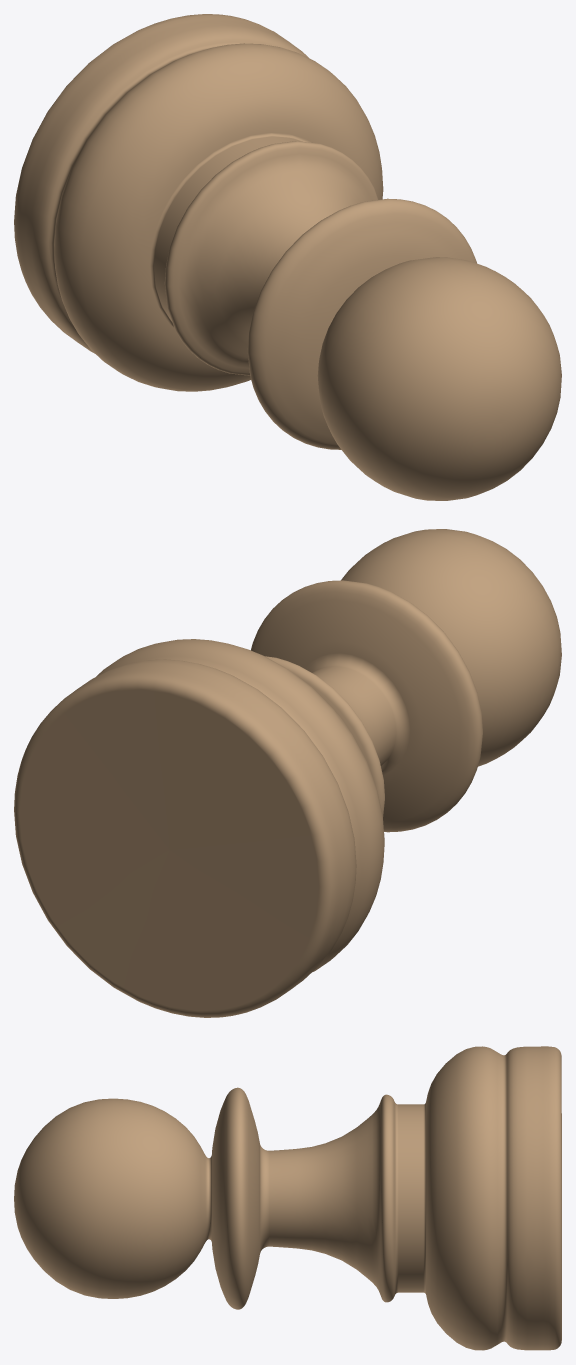
File: pawn.fbx
The picture shows the model from 3 angles, top to bottom: view 1: azimuth 30°, elevation 25°; view 2: azimuth 150°, elevation 25°; view 3: azimuth 270°, elevation 25°; orthographic projection. The views are drawn at different scales.
Visible parts, largest first — view 1: Body1; view 2: Body1; view 3: Body1.
Boxes of the visible parts, x1,y1,x2,y2 form: Body1: (14, 14, 561, 500); Body1: (14, 529, 561, 1017); Body1: (14, 1046, 561, 1350).
Bounding box in the file's own units: 16.59 × 16.58 × 29.82.
